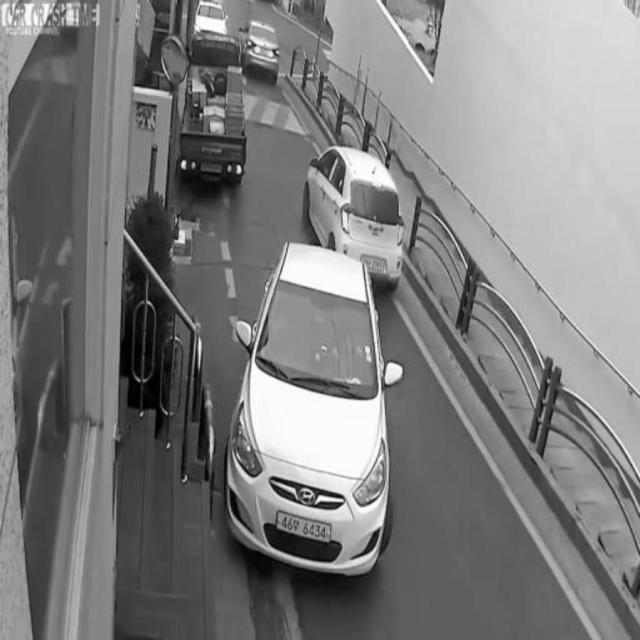vehicle: (224, 245, 390, 575), (302, 147, 404, 289), (178, 33, 248, 187), (240, 17, 282, 83)
